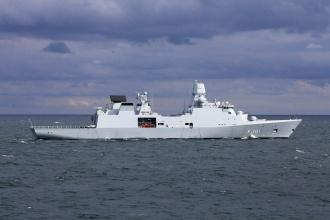warship: (30, 81, 304, 139)
